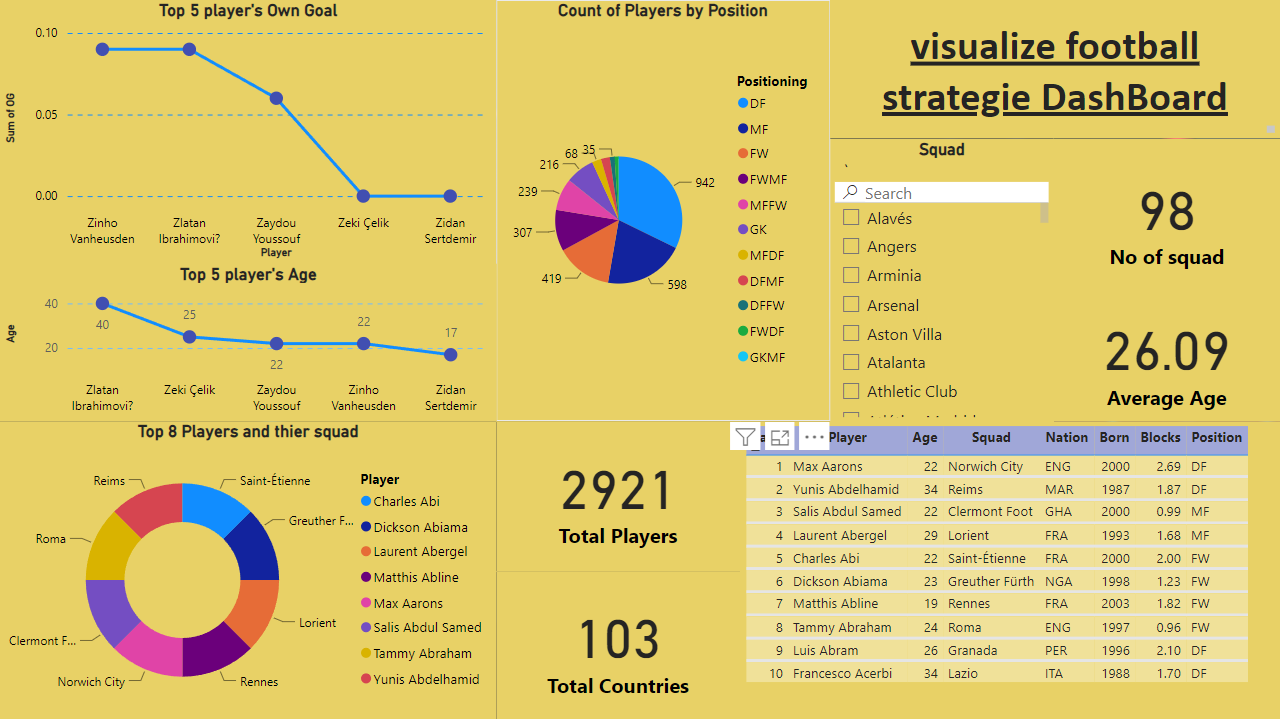

Layout of this report page (visuals, bound fields, positions):
{"tool":"powerbi","page":{"name":"Page 1","canvas":[1280,720],"ordinal":0},"visuals":[{"type":"card","fields":{"Values":["2021-2022 Football Player Stats.Squad"]},"box":[1053.9,138.6,226.4,141.3],"z":0},{"type":"card","fields":{"Values":["2021-2022 Football Player Stats.Age"]},"box":[1053.9,278.6,226.4,142.7],"z":1000},{"type":"donutChart","title":"Top 8 Players and thier squad","fields":{"Category":["2021-2022 Football Player Stats.Player"],"Series":["2021-2022 Football Player Stats.Squad"],"Y":["2021-2022 Football Player Stats.Rk"]},"box":[0,421.2,496.2,298.8],"z":2000},{"type":"card","fields":{"Values":["2021-2022 Football Player Stats.Nation"]},"box":[496.2,571.2,243.8,148.8],"z":3000},{"type":"slicer","title":"Squad","fields":{"Values":["2021-2022 Football Player Stats.Squad"]},"box":[830.3,138.2,223.8,283.7],"z":4000},{"type":"card","fields":{"Values":["2021-2022 Football Player Stats.Rk"]},"box":[496.2,421.2,243.8,150],"z":5000},{"type":"lineChart","title":"Top 5 player''s Own Goal","fields":{"Y":["2021-2022 Football Player Stats.OG"],"Category":["2021-2022 Football Player Stats.Player"]},"box":[0,0,496.2,263.8],"z":6000},{"type":"tableEx","fields":{"Values":["2021-2022 Football Player Stats.Rk","2021-2022 Football Player Stats.Player","2021-2022 Football Player Stats.Age","2021-2022 Football Player Stats.Squad","2021-2022 Football Player Stats.Nation","2021-2022 Football Player Stats.Born","2021-2022 Football Player Stats.Blocks","2021-2022 Football Player Stats.Pos"]},"box":[740,421.4,540,298.6],"z":7000},{"type":"pieChart","title":"Count of Players by Position","fields":{"Category":["2021-2022 Football Player Stats.Pos"],"Y":["2021-2022 Football Player Stats.Player"]},"box":[496.7,0,333.4,421.3],"z":8000},{"type":"lineChart","title":"Top 5 player''s Age","fields":{"Y":["2021-2022 Football Player Stats.Age"],"Category":["2021-2022 Football Player Stats.Player"]},"box":[0,263.5,496.7,157.8],"z":9000},{"type":"textbox","title":"visualize football strategie DashBoard","box":[830.3,0,450,138.2],"z":10000}]}

Visuals, with their boxes in screenshot pixels (x1, y1, x2, y2), scaled from the page's 1280x720 canvas onto the 1280x719 screenshot:
card - 2021-2022 Football Player Stats.Squad: bbox(1054, 138, 1279, 280)
card - 2021-2022 Football Player Stats.Age: bbox(1054, 278, 1279, 421)
"Top 8 Players and thier squad" donutChart: bbox(0, 421, 496, 718)
card - 2021-2022 Football Player Stats.Nation: bbox(496, 570, 740, 718)
"Squad" slicer: bbox(830, 138, 1054, 421)
card - 2021-2022 Football Player Stats.Rk: bbox(496, 421, 740, 570)
"Top 5 player''s Own Goal" lineChart: bbox(0, 0, 496, 263)
tableEx - 2021-2022 Football Player Stats.Rk x 2021-2022 Football Player Stats.Player: bbox(740, 421, 1279, 718)
"Count of Players by Position" pieChart: bbox(497, 0, 830, 421)
"Top 5 player''s Age" lineChart: bbox(0, 263, 497, 421)
"visualize football strategie DashBoard" textbox: bbox(830, 0, 1279, 138)
